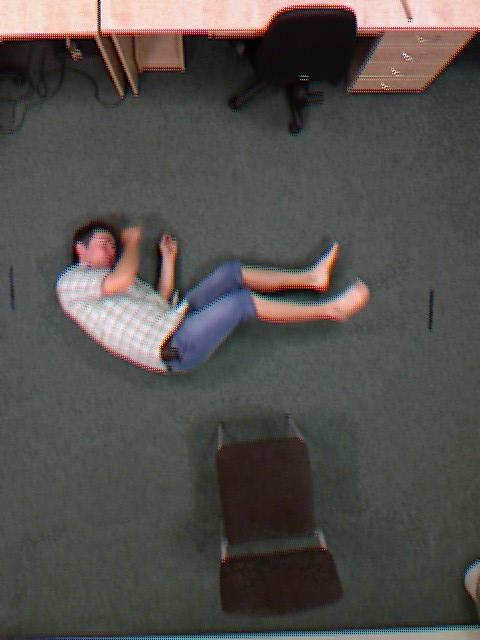fall: (147, 80, 279, 509)
